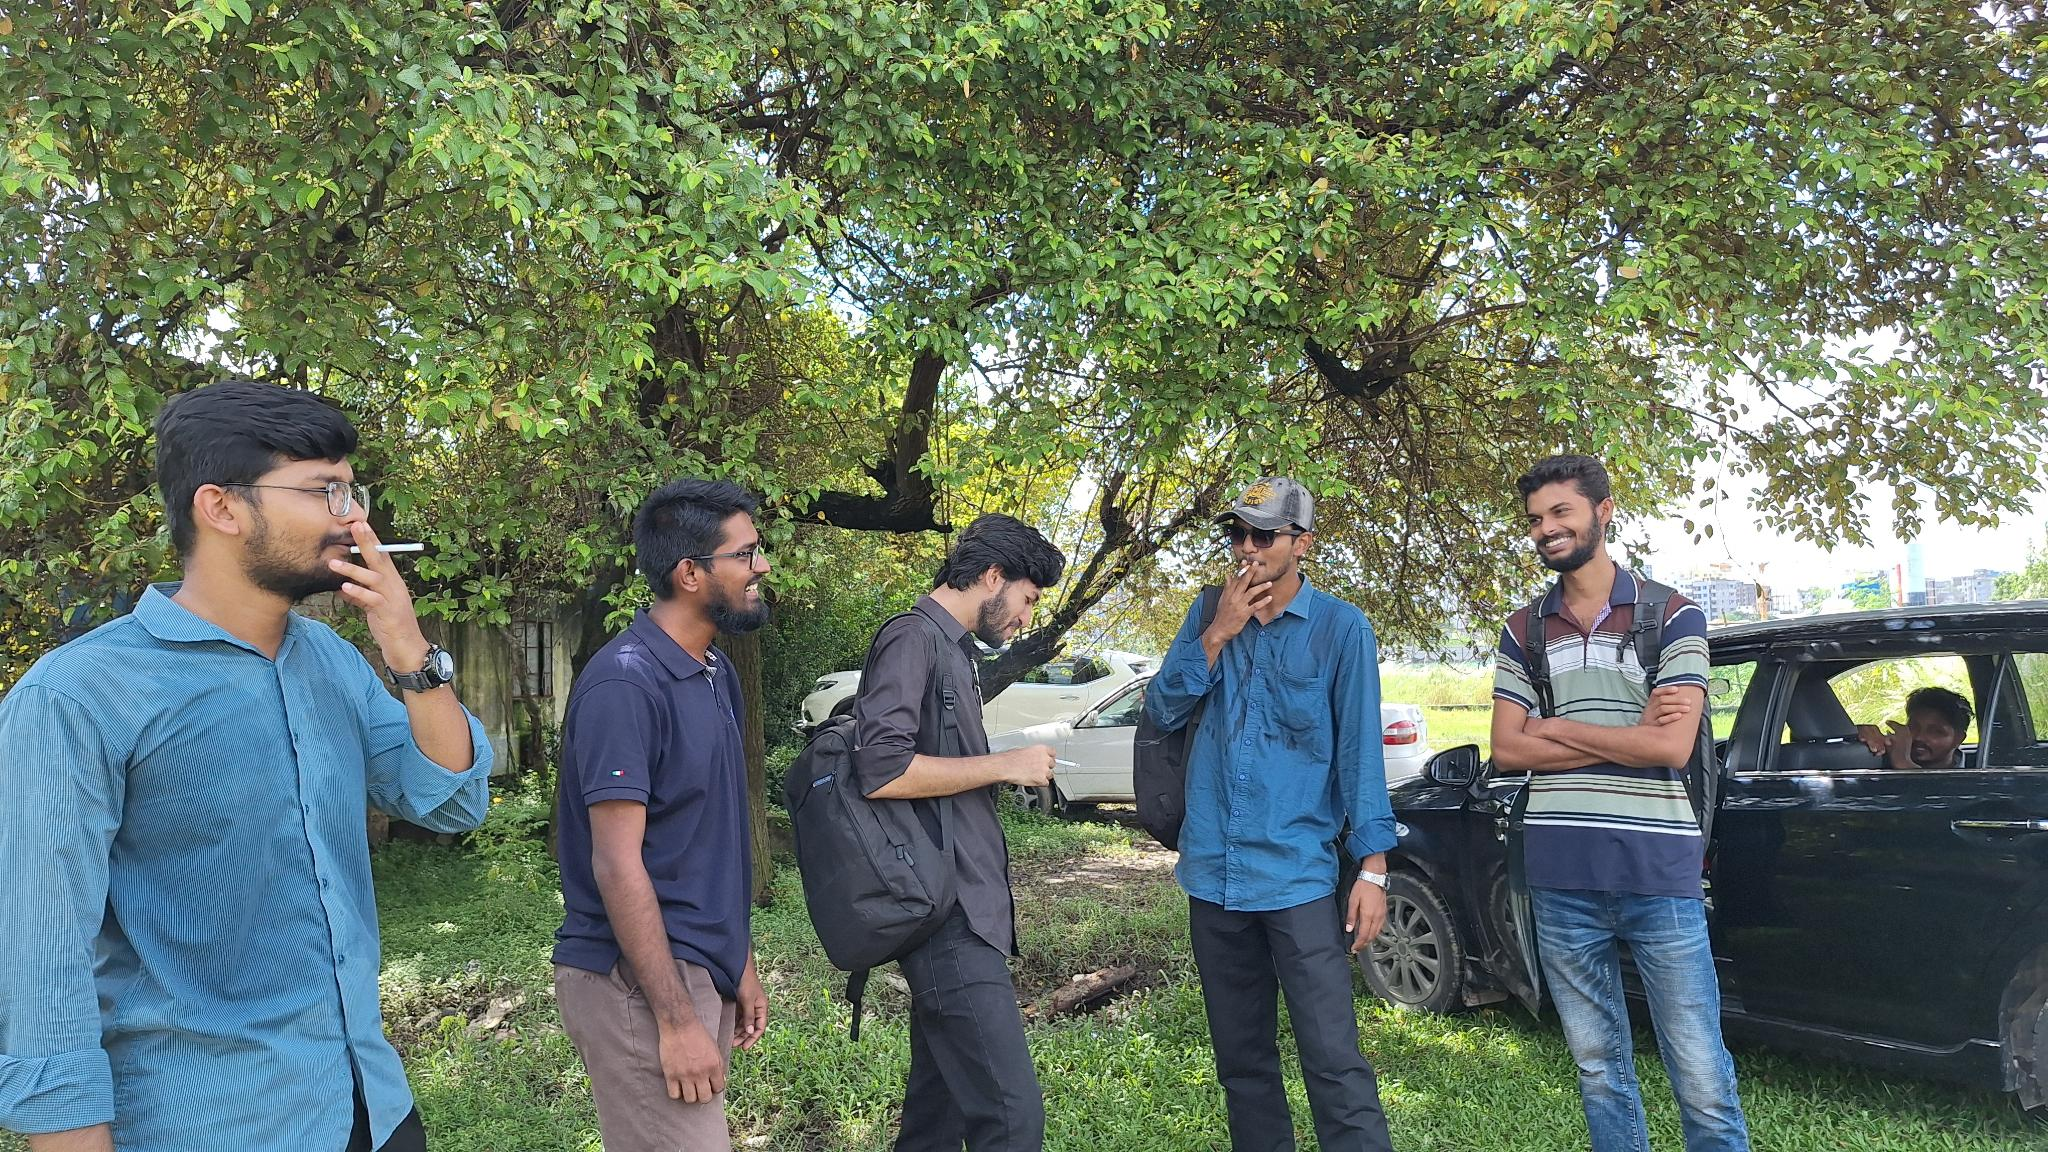cigarette: (346, 540, 426, 558), (1052, 757, 1082, 769), (1236, 563, 1252, 580)
nonSmoker: (1490, 452, 1741, 1152), (553, 477, 772, 1152)
smoker: (0, 380, 488, 1152), (1134, 474, 1395, 1152), (785, 518, 1063, 1152)
